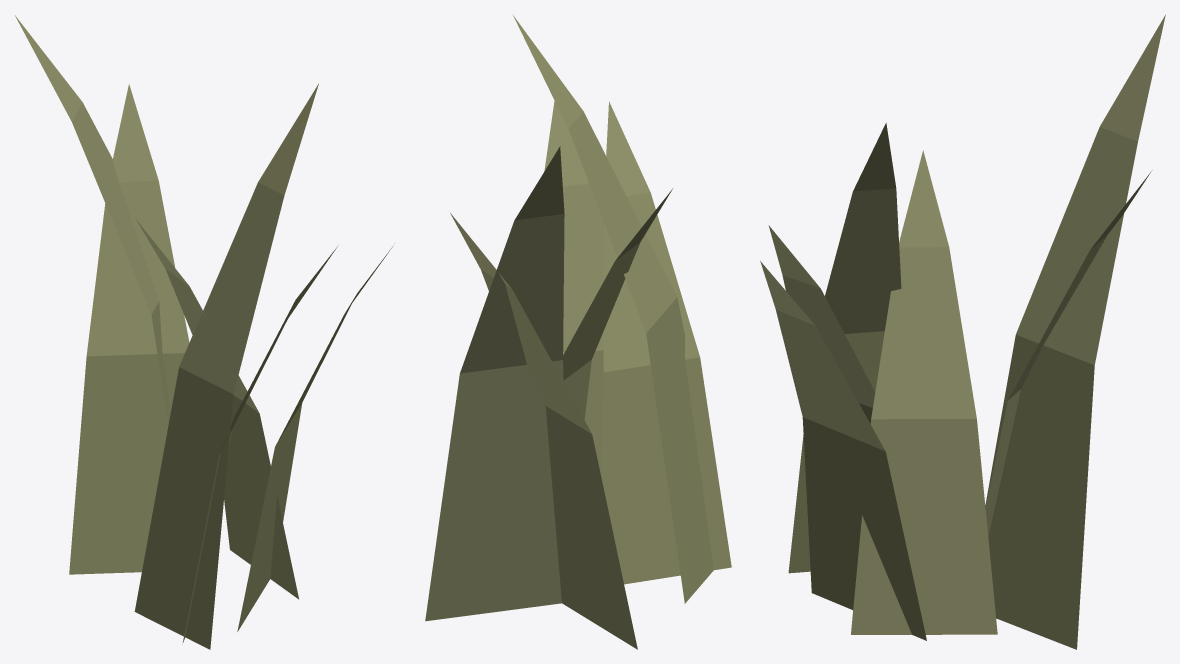
File: tuft_2.glb
3 views of the same model, side by side, from view 1: azimuth 30°, elevation 25°; view 2: azimuth 150°, elevation 25°; view 3: azimuth 270°, elevation 25° (orthographic). The views are drawn at different scales.
Parts seen in each view (by area): view 1: MeadowTuft2; view 2: MeadowTuft2; view 3: MeadowTuft2.
Boxes of the visible parts, box(x1,y1,x2,y2) form: MeadowTuft2: box(15, 15, 392, 649); MeadowTuft2: box(425, 14, 731, 649); MeadowTuft2: box(760, 14, 1165, 649).
Bounding box in the file's own units: 0.0934 × 0.2262 × 0.1516.
